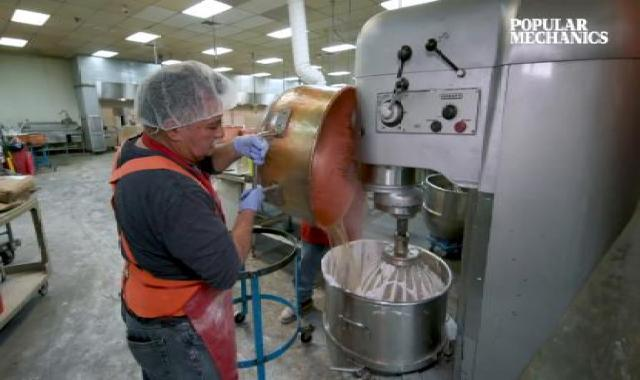hairnet: (130, 56, 242, 133)
